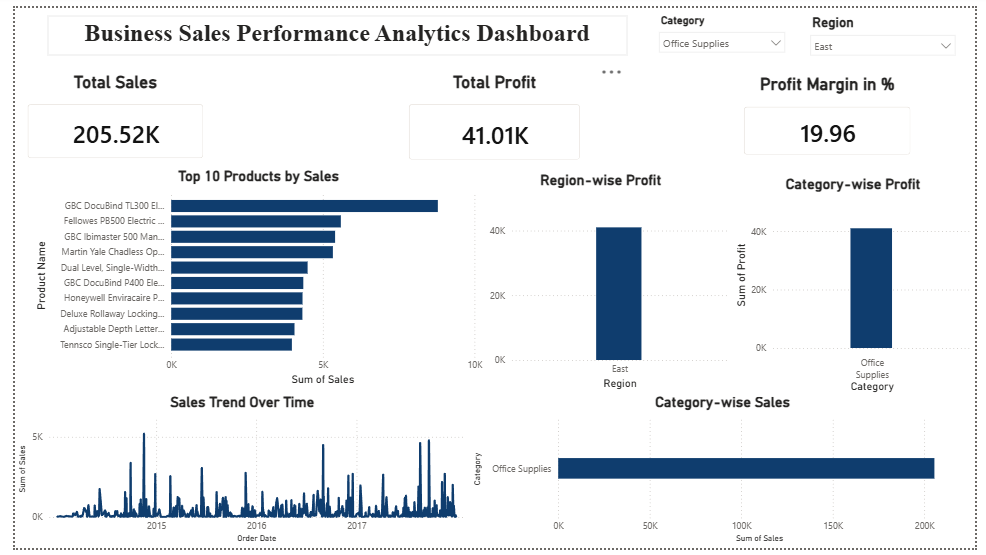

This screenshot's page, from the dashboard's own definition file:
{"tool":"powerbi","page":{"name":"Page 1","canvas":[1280,720],"ordinal":0},"visuals":[{"type":"cardVisual","title":"Total Sales","fields":{"Data":["Sum(Sample - Superstore.Sales)"]},"box":[0,84.8,268,133.3],"z":0},{"type":"cardVisual","title":"Total Profit","fields":{"Data":["Sum(Sample - Superstore.Profit)"]},"box":[508.8,85,262.5,135],"z":1000},{"type":"lineChart","title":"Sales Trend Over Time","fields":{"Y":["Sum(Sample - Superstore.Sales)"],"Category":["Sample - Superstore.Order Date"]},"box":[0,515,606.2,203.8],"z":2000},{"type":"clusteredBarChart","title":"Category-wise Sales","fields":{"Category":["Sample - Superstore.Category"],"Y":["Sum(Sample - Superstore.Sales)"]},"box":[606.2,515,673.8,203.8],"z":3000},{"type":"clusteredColumnChart","title":"Region-wise Profit","fields":{"Category":["Sample - Superstore.Region"],"Y":["Sum(Sample - Superstore.Profit)"]},"box":[606.2,218.8,348.8,295],"z":4000},{"type":"barChart","title":"Top 10 Products by Sales","fields":{"Category":["Sample - Superstore.Product Name"],"Y":["Sum(Sample - Superstore.Sales)"]},"box":[21.2,212.5,606.2,295],"z":5000},{"type":"columnChart","title":"Category-wise Profit","fields":{"Category":["Sample - Superstore.Category"],"Y":["Sum(Sample - Superstore.Profit)"]},"box":[955,222.5,325,295],"z":6000},{"type":"slicer","fields":{"Values":["Sample - Superstore.Region"]},"box":[1050,2.5,213.8,67.5],"z":7000},{"type":"textbox","box":[43.8,10,772.5,52.5],"z":8000},{"type":"cardVisual","title":"Profit Margin in  %","fields":{"Data":["Sample - Superstore.Profit Margin in %"]},"box":[955,87.5,256.2,125],"z":9000},{"type":"slicer","fields":{"Values":["Sample - Superstore.Category"]},"box":[848.8,2.5,188.8,70],"z":9001}]}

Visuals, with their boxes in screenshot pixels (x1, y1, x2, y2), scaled from the page's 1280x720 canvas onto the 986x555 screenshot:
"Total Sales" cardVisual: select_region(0, 65, 206, 168)
"Total Profit" cardVisual: select_region(392, 66, 594, 170)
"Sales Trend Over Time" lineChart: select_region(0, 397, 467, 554)
"Category-wise Sales" clusteredBarChart: select_region(467, 397, 985, 554)
"Region-wise Profit" clusteredColumnChart: select_region(467, 169, 736, 396)
"Top 10 Products by Sales" barChart: select_region(16, 164, 483, 391)
"Category-wise Profit" columnChart: select_region(736, 172, 985, 399)
slicer - Sample - Superstore.Region: select_region(809, 2, 974, 54)
textbox: select_region(34, 8, 629, 48)
"Profit Margin in  %" cardVisual: select_region(736, 67, 933, 164)
slicer - Sample - Superstore.Category: select_region(654, 2, 799, 56)
